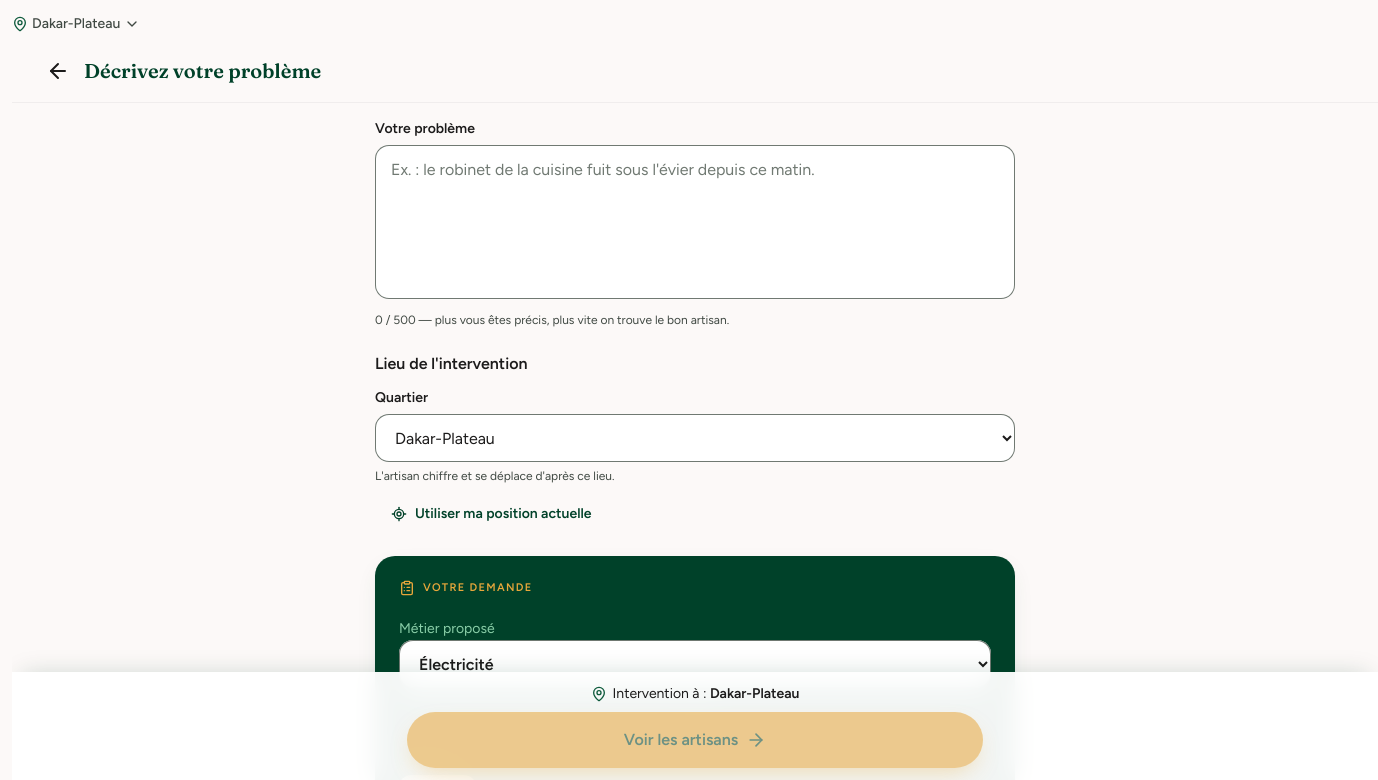
Test: DescribeProblemScreen › shows the backend's error message when request creation fails
Replace the text in the text box labelled "Votre problème" with "Une prise ne fonctionne plus dans le salon.". click: (695, 222)
box: [375,145,1015,299]
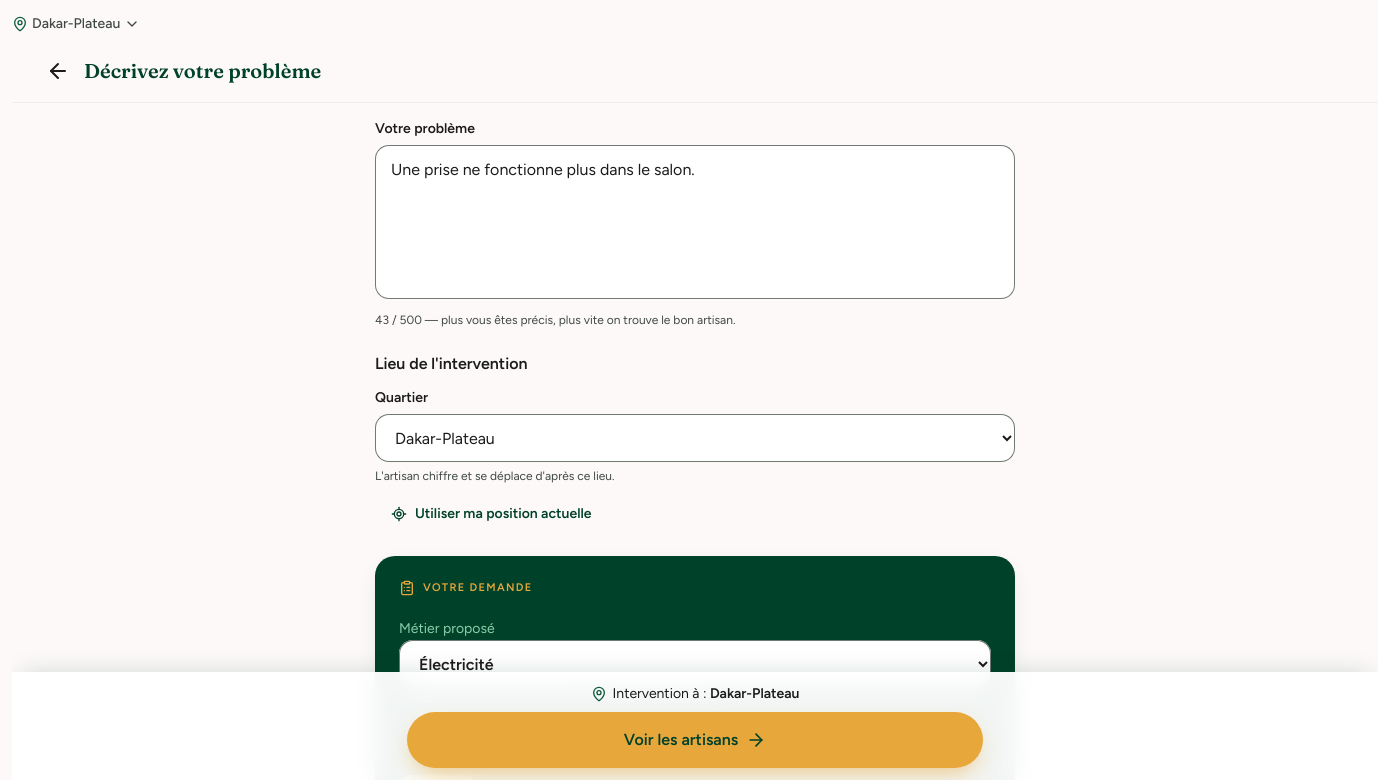
Click the button "Voir les artisans". click: click(695, 740)
box: [407,712,983,768]
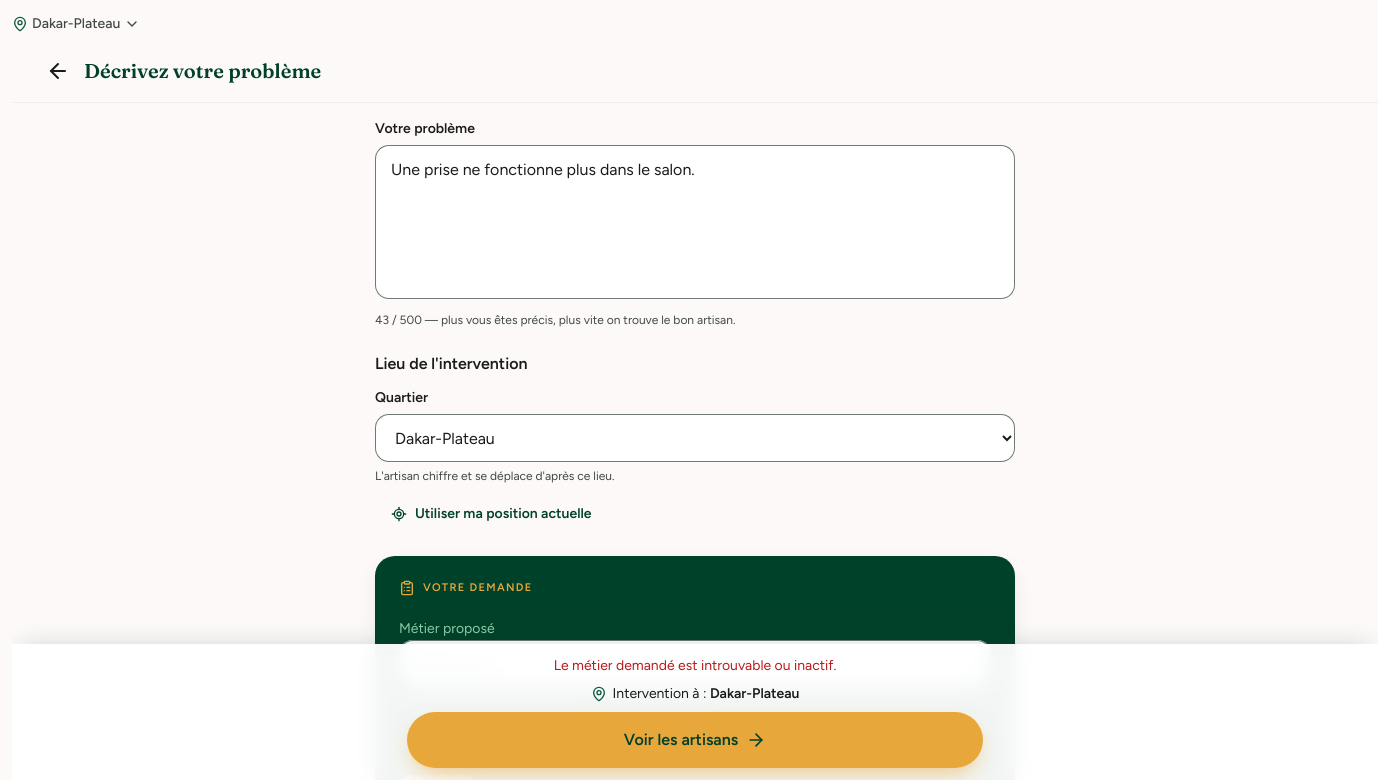
Check: the text "Le métier demandé est introuvable ou inactif." is shown, box [554,657,836,674]
